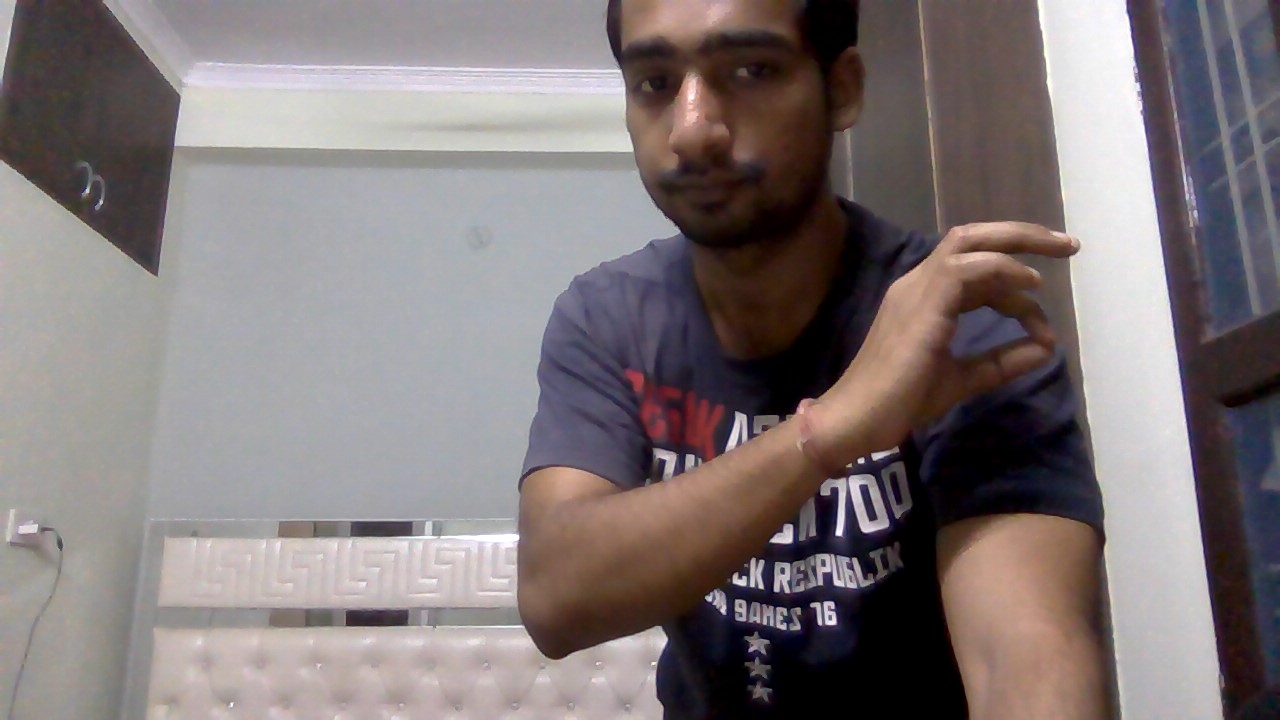Copy: (835, 209, 1089, 476)
